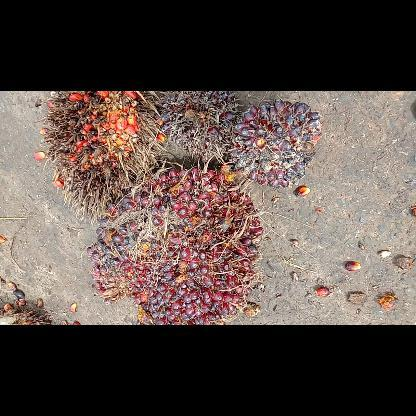TBS abnormal: (228, 99, 326, 189), (155, 92, 240, 162)
TBS masak: (84, 166, 266, 324)
Terlalu masak: (42, 92, 160, 222)
